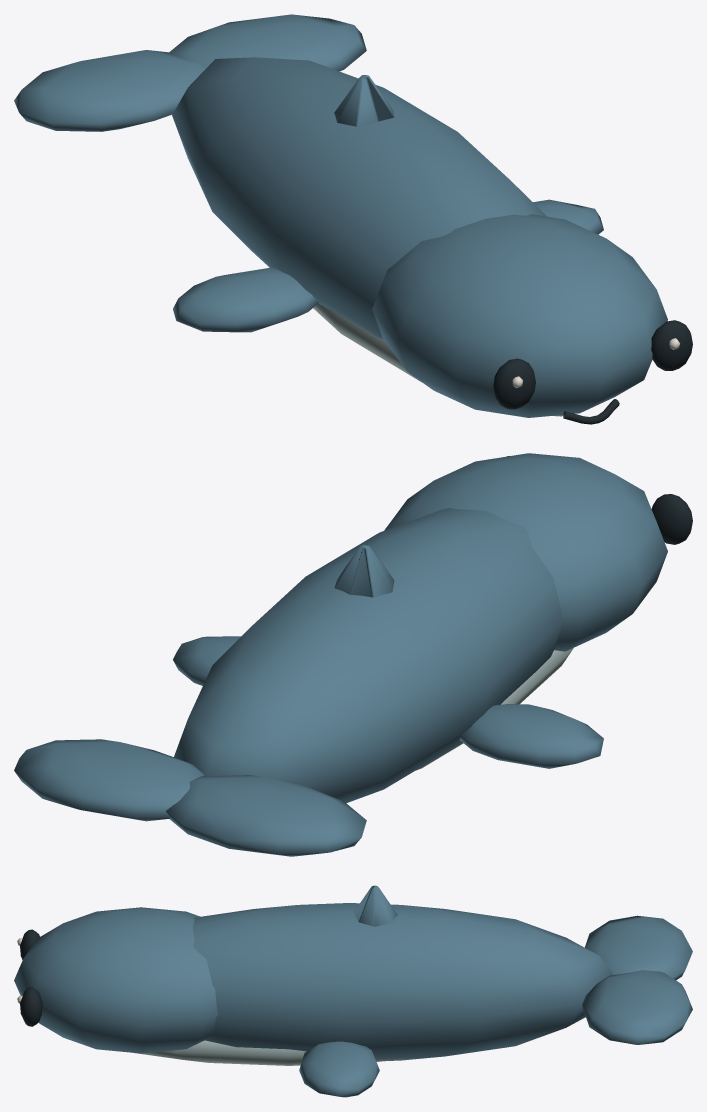
Rendered from org_bluewhale.glb.
3 renders of one model, top to bottom at view 1: azimuth 30°, elevation 25°; view 2: azimuth 150°, elevation 25°; view 3: azimuth 270°, elevation 25°, orthographic. The views are drawn at different scales.
Parts seen in each view (by area): view 1: Body, Head, Tail, Fin_R, Eye_R, Eye_L, Fin_L; view 2: Body, Head, Tail, Fin_R, Fin_L, Eye_R; view 3: Body, Head, Tail, Fin_L, Eye_L, Eye_R.
Part boxes in pixels (bbox=[...]): Body: bbox=[172, 57, 563, 416]; Head: bbox=[372, 214, 667, 424]; Tail: bbox=[14, 14, 366, 131]; Fin_R: bbox=[173, 267, 318, 332]; Eye_R: bbox=[493, 358, 535, 409]; Eye_L: bbox=[651, 320, 692, 370]; Fin_L: bbox=[533, 199, 603, 234]; Body: bbox=[174, 508, 573, 803]; Head: bbox=[384, 453, 667, 651]; Tail: bbox=[14, 739, 366, 856]; Fin_R: bbox=[459, 704, 603, 768]; Fin_L: bbox=[173, 636, 240, 685]; Eye_R: bbox=[651, 494, 692, 544]; Body: bbox=[135, 885, 612, 1065]; Head: bbox=[14, 907, 217, 1053]; Tail: bbox=[582, 915, 692, 1044]; Fin_L: bbox=[299, 1041, 379, 1097]; Eye_L: bbox=[17, 987, 42, 1026]; Eye_R: bbox=[17, 929, 39, 959].
Size of the model in its own units: 2.44 by 1.21 by 4.5.
